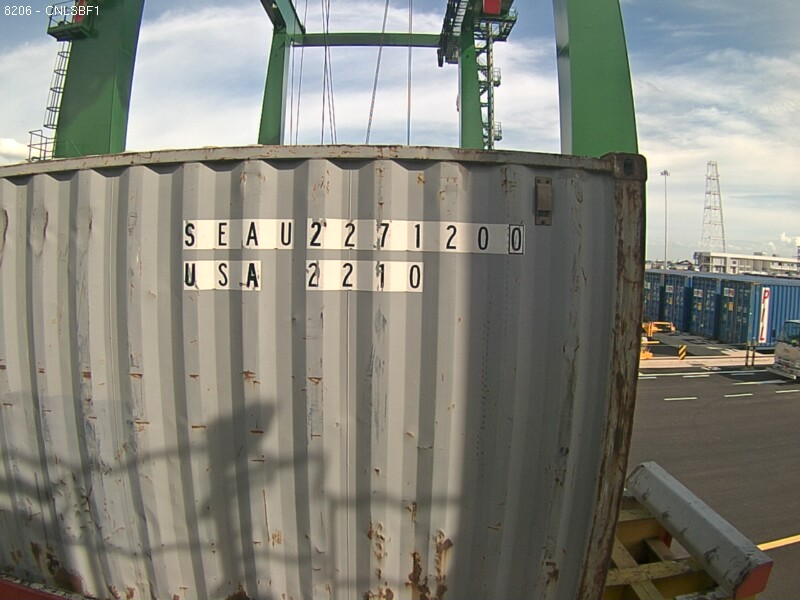container_no_door: (161, 137, 650, 542)
